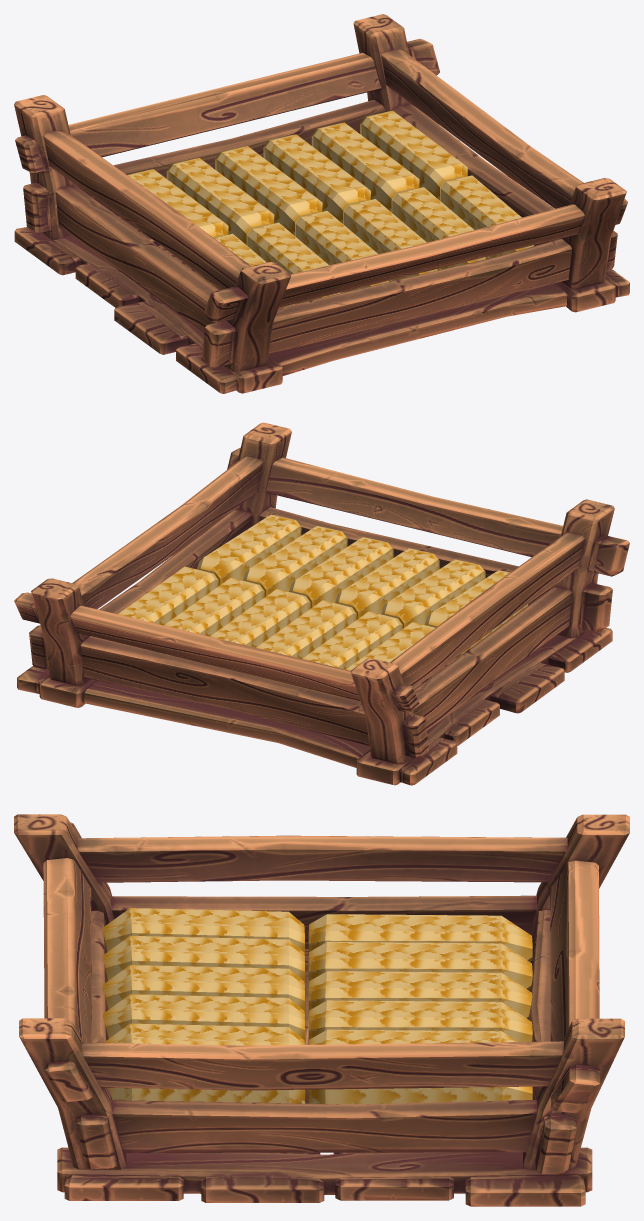
The model's file is kasa buday.fbx.
The picture shows the model from 3 angles, top to bottom: view 1: azimuth 30°, elevation 25°; view 2: azimuth 150°, elevation 25°; view 3: azimuth 270°, elevation 25°; orthographic projection. The views are drawn at different scales.
Parts seen in each view (by area): view 1: kasa_Buday, Buday6, Buday4, Buday10, Buday8, Buday12, Buday7, Buday9, Buday5, Buday11, Buday13, Buday14 (+1 smaller); view 2: kasa_Buday, Buday11, Buday5, Buday9, Buday7, Buday13, Buday4, Buday6, Buday8, Buday10, Buday12, Buday15 (+1 smaller); view 3: kasa_Buday, Buday12, Buday10, Buday8, Buday14, Buday13, Buday11, Buday9, Buday15, Buday7, Buday4, Buday6 (+1 smaller).
Boxes of the visible parts, x1,y1,x2,y2 form: kasa_Buday: (14,14,629,393); Buday6: (311,122,419,212); Buday4: (360,110,467,200); Buday10: (215,146,322,236); Buday8: (263,134,370,224); Buday12: (166,158,274,245); Buday7: (392,187,485,269); Buday9: (344,199,437,280); Buday5: (440,175,533,257); Buday11: (295,211,388,292); Buday13: (247,222,340,303); Buday14: (127,169,228,238); kasa_Buday: (14,422,629,785); Buday11: (335,548,439,619); Buday5: (197,514,301,585); Buday9: (289,537,393,608); Buday7: (243,526,347,596); Buday13: (381,559,485,628); Buday4: (118,566,218,625); Buday6: (164,578,264,636); Buday8: (210,589,310,647); Buday10: (256,600,356,658); Buday12: (302,611,402,669); Buday15: (424,570,528,657); kasa_Buday: (14,814,629,1206); Buday12: (308,942,532,990); Buday10: (308,971,532,1018); Buday8: (308,1000,532,1044); Buday14: (308,914,532,961); Buday13: (103,935,304,989); Buday11: (103,965,304,1018); Buday9: (102,994,304,1044); Buday15: (103,908,304,960); Buday7: (104,1023,304,1045); Buday4: (308,1086,532,1104); Buday6: (309,1029,517,1044).
Size of the model in its own units: 88.15 by 24.61 by 88.45.
